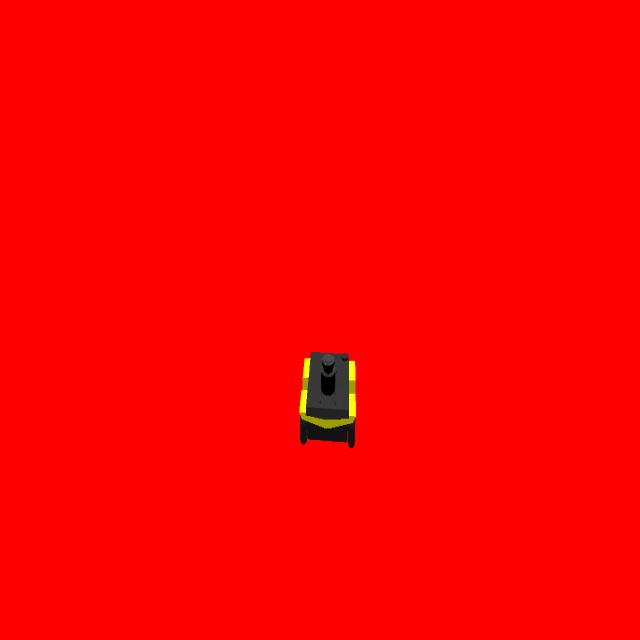jackal: (292, 346, 360, 452)
